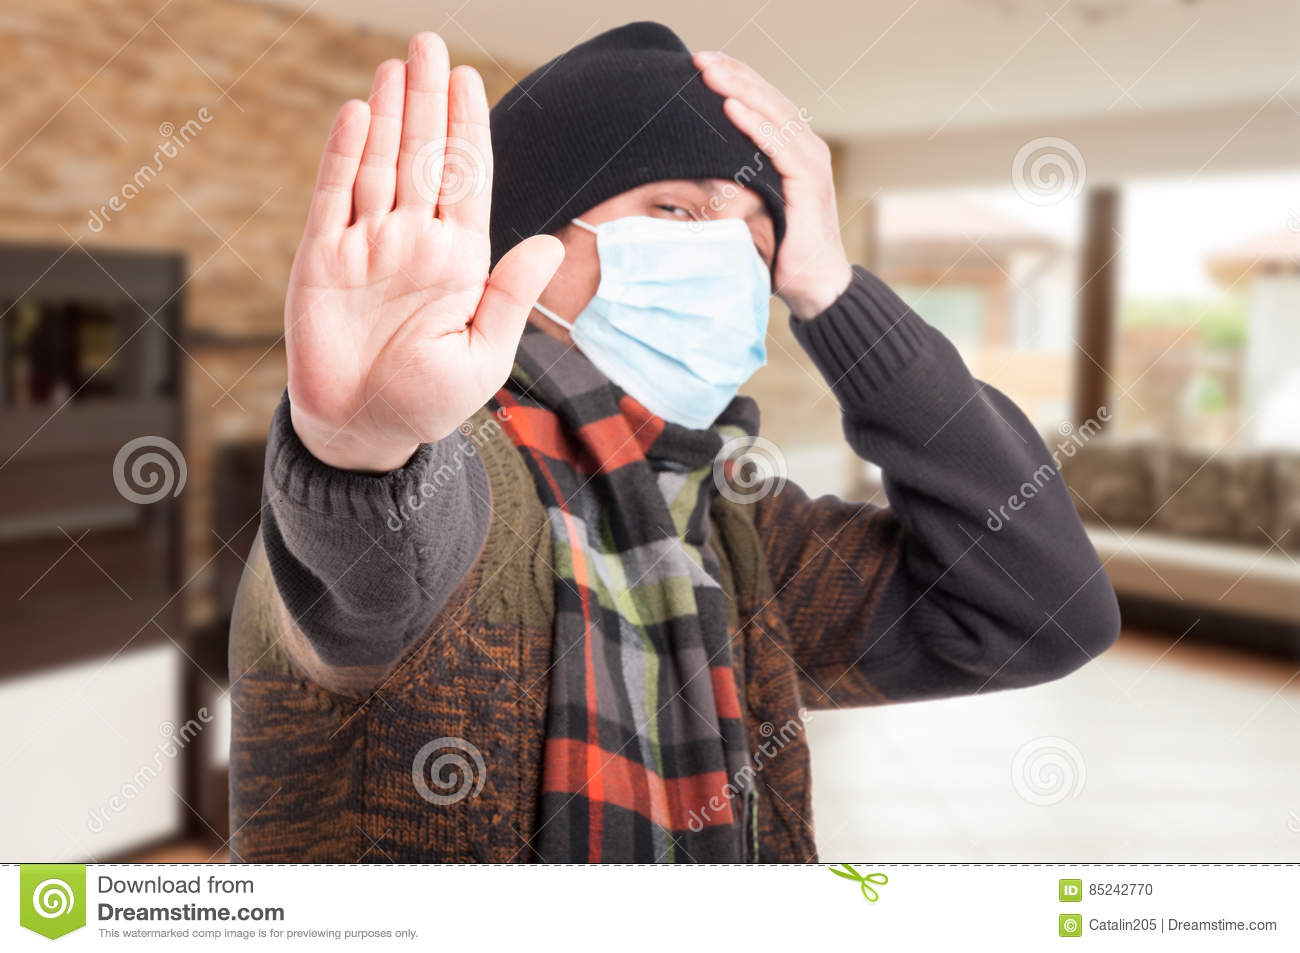mask: (578, 219, 775, 421)
